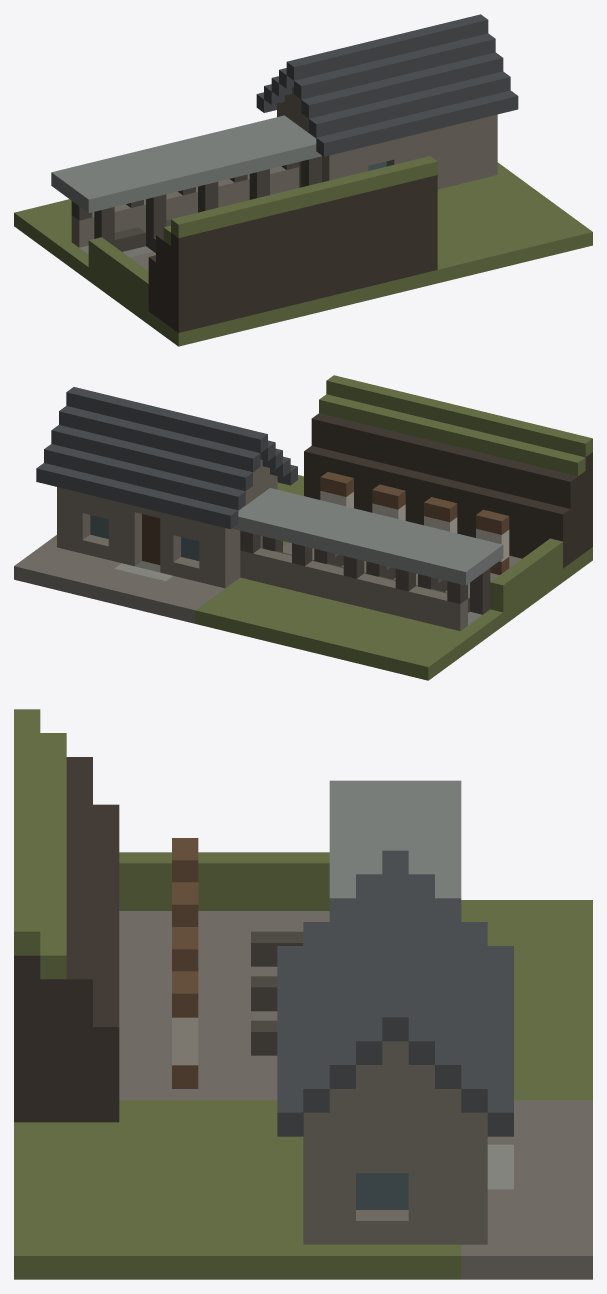
File: Claude_shooting_range.glb
3 renders of one model, top to bottom at view 1: azimuth 30°, elevation 25°; view 2: azimuth 150°, elevation 25°; view 3: azimuth 270°, elevation 25°, orthographic. The views are drawn at different scales.
Parts seen in each view (by area): view 1: Claude_shooting_range; view 2: Claude_shooting_range; view 3: Claude_shooting_range.
Part boxes in pixels (x1,y1,x2,y2): Claude_shooting_range: (14, 14, 592, 346); Claude_shooting_range: (14, 375, 592, 680); Claude_shooting_range: (14, 709, 592, 1279).
Size of the model in its own units: 16 by 5.5 by 11.
